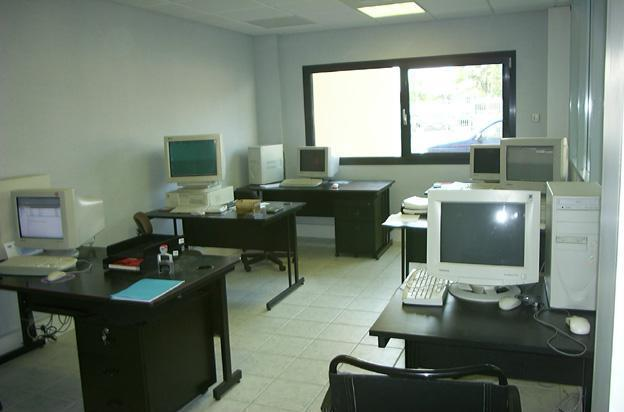Ventana: (306, 69, 500, 156)
